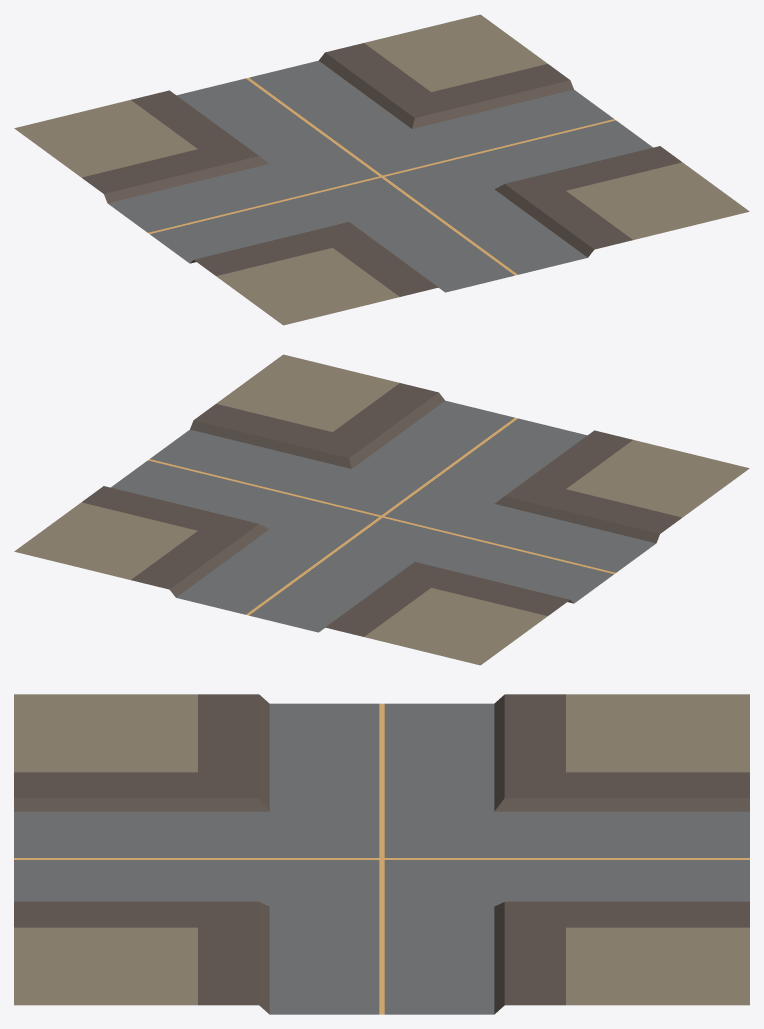
Rendered from Cruzamento.fbx.
The picture shows the model from 3 angles, top to bottom: view 1: azimuth 30°, elevation 25°; view 2: azimuth 150°, elevation 25°; view 3: azimuth 270°, elevation 25°; orthographic projection. The views are drawn at different scales.
Parts seen in each view (by area): view 1: Cruzamento; view 2: Cruzamento; view 3: Cruzamento.
Boxes of the visible parts, x1,y1,x2,y2 form: Cruzamento: [14, 14, 749, 325]; Cruzamento: [14, 354, 749, 665]; Cruzamento: [14, 694, 749, 1014].
Size of the model in its own units: 200 by 2.72 by 200.
